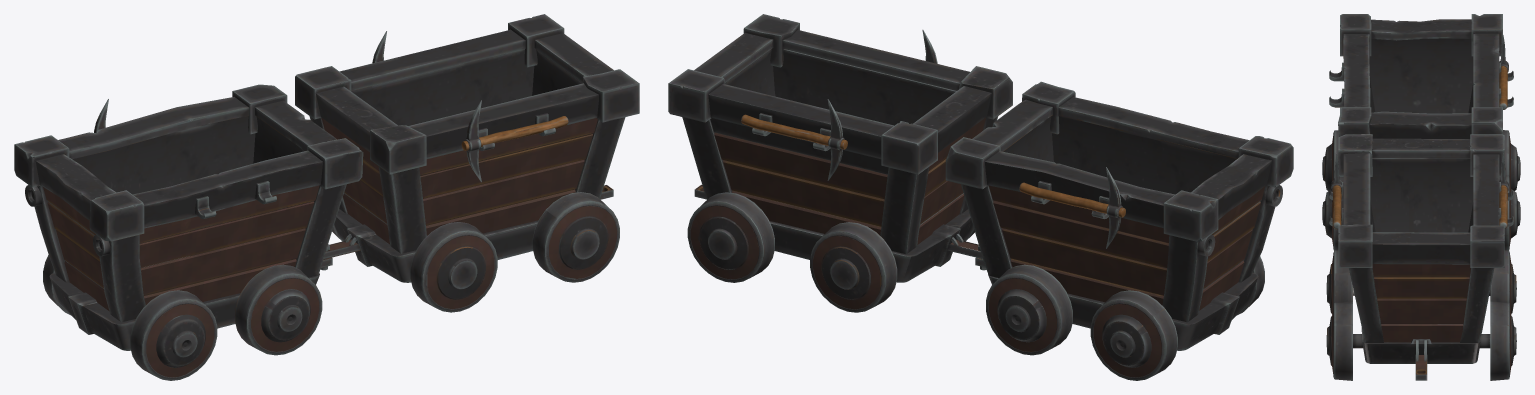
File: SM_Cart_03.glb
The picture shows the model from 3 angles, left to right: view 1: azimuth 30°, elevation 25°; view 2: azimuth 150°, elevation 25°; view 3: azimuth 270°, elevation 25°; orthographic projection. The views are drawn at different scales.
Visible parts, largest first — view 1: SM_Cart_03; view 2: SM_Cart_03; view 3: SM_Cart_03.
Boxes of the visible parts, x1,y1,x2,y2 form: SM_Cart_03: (14,14,639,380); SM_Cart_03: (668,14,1293,380); SM_Cart_03: (1322,14,1520,380).
Bounding box in the file's own units: 3.63 × 1.3 × 1.29.
Materials: 1 (1 with a texture image).
